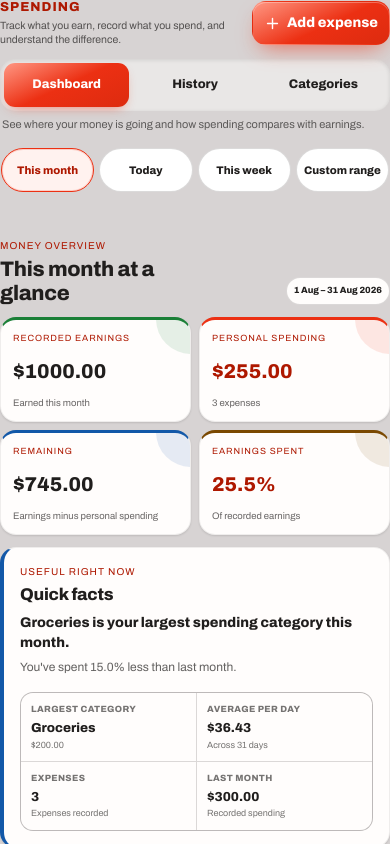
Test: SpendingScreen › validates quick-entry amounts and excludes archived categories from new expenses
The width and height of the screenshot is (390, 844).
Click the button "Add expense" at (321,23), box [252,1,389,45]
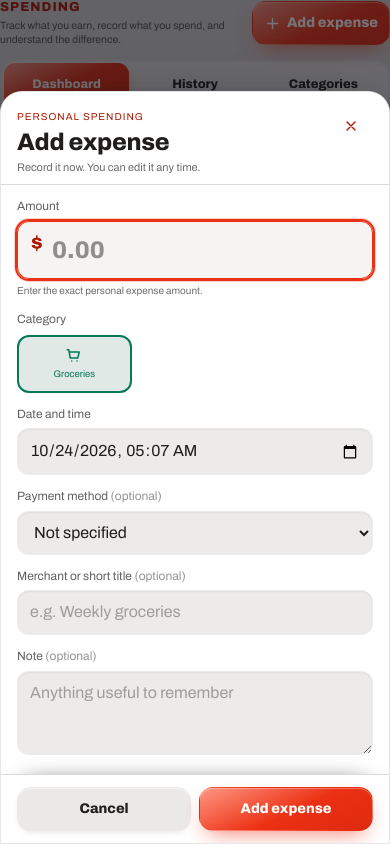
Result: the dialog "Add expense" is shown
Result: the element with class "spending-dialog-body" is shown
Result: the element with class "spending-dialog-actions" is shown at [1,774,389,843]
Type "0" into the field labelled "Amount" at (195,250), box [17,221,373,279]
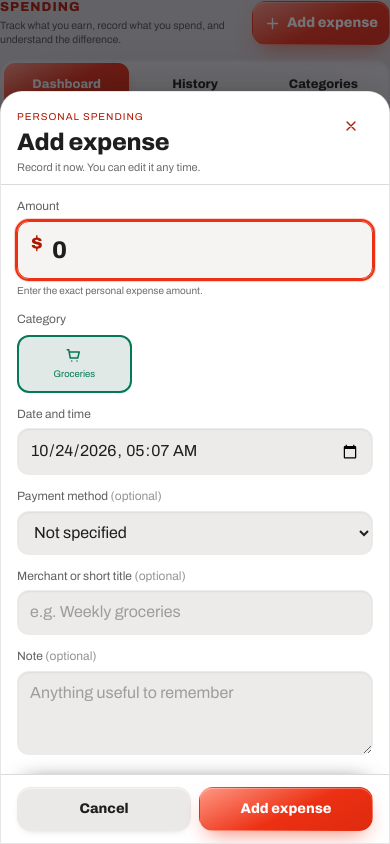
Click the button "Add expense" at (286,809), box [199,787,373,831]
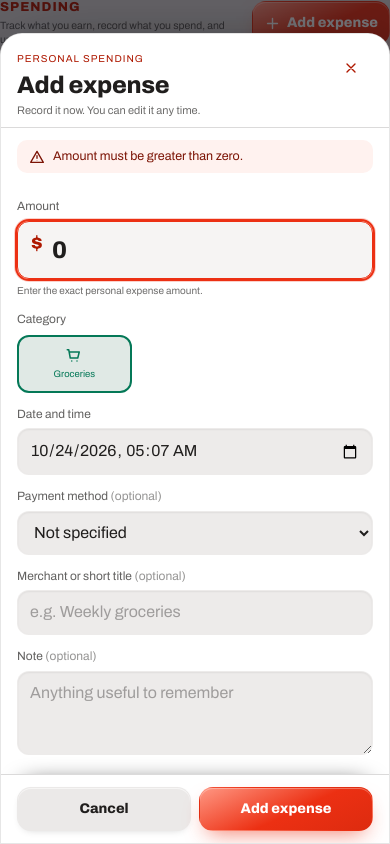
Result: the text "Amount must be greater than zero." is shown at [53,149,243,163]
